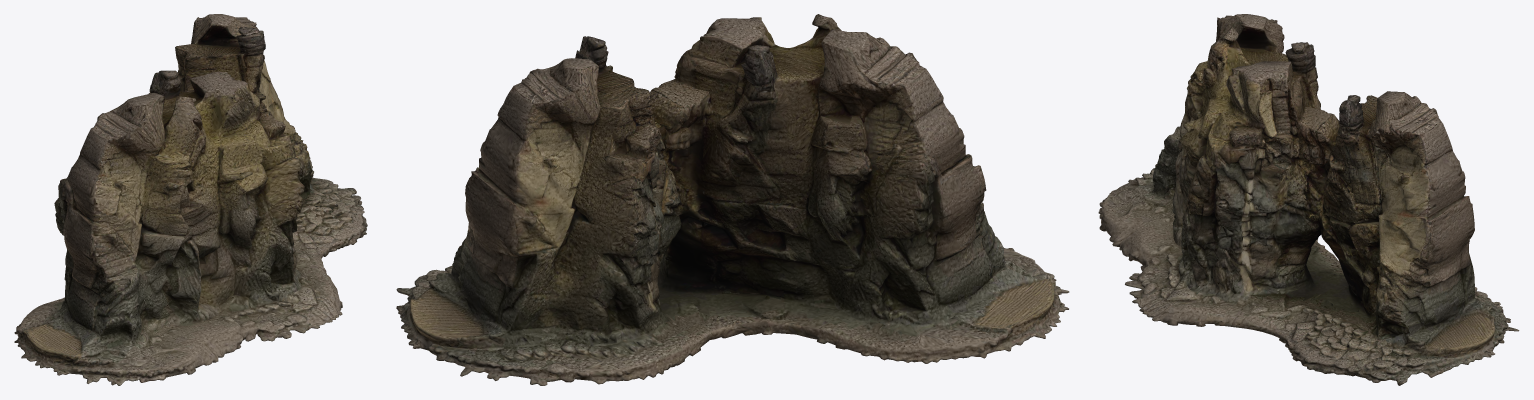
File: Arka.fbx
3 renders of one model, left to right at view 1: azimuth 30°, elevation 25°; view 2: azimuth 150°, elevation 25°; view 3: azimuth 270°, elevation 25°, orthographic. The views are drawn at different scales.
Visible parts, largest first — view 1: tripo_node_2d674ed2-0227-4a4b-ae3f-19eb1e288612; view 2: tripo_node_2d674ed2-0227-4a4b-ae3f-19eb1e288612; view 3: tripo_node_2d674ed2-0227-4a4b-ae3f-19eb1e288612.
Part boxes in pixels (x1,y1,x2,y2): tripo_node_2d674ed2-0227-4a4b-ae3f-19eb1e288612: (14,14,367,385); tripo_node_2d674ed2-0227-4a4b-ae3f-19eb1e288612: (396,14,1069,385); tripo_node_2d674ed2-0227-4a4b-ae3f-19eb1e288612: (1098,14,1519,385).
Bounding box in the file's own units: 824 × 413 × 684.
